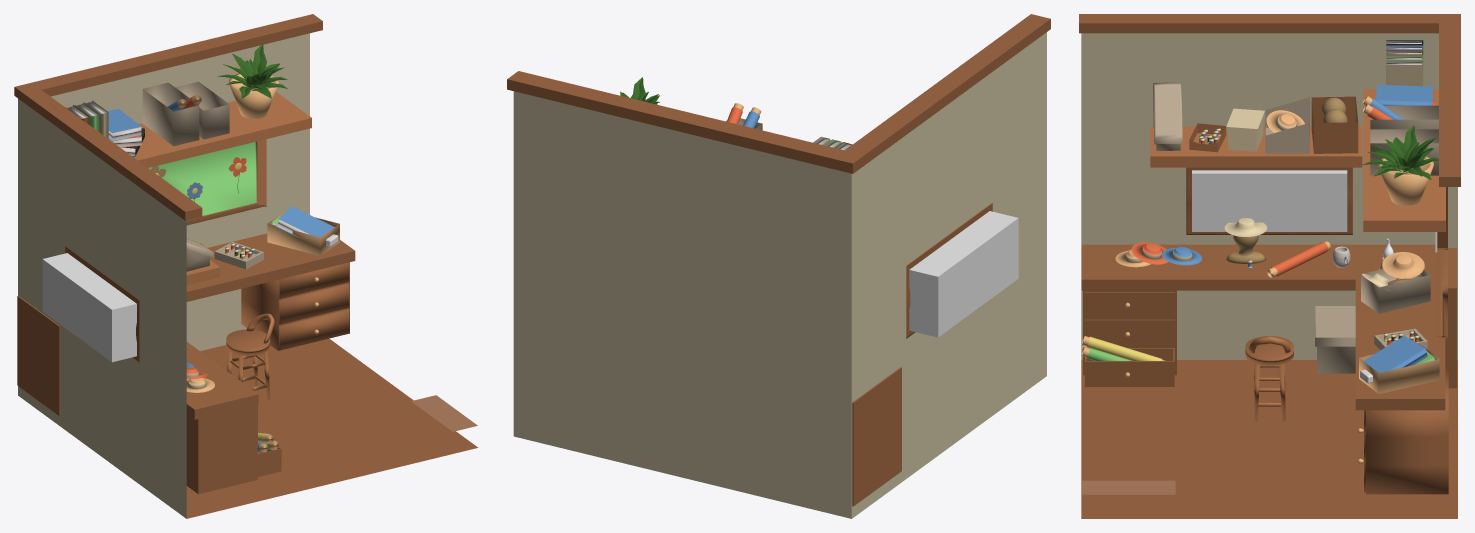
File: room.glb
3 views of the same model, side by side, from view 1: azimuth 30°, elevation 25°; view 2: azimuth 150°, elevation 25°; view 3: azimuth 270°, elevation 25° (orthographic). The views are drawn at different scales.
Parts seen in each view (by area): view 1: Room Base, Plane.041, Dolap, Cube.001, Kucuk_dolap, Pano, Raf_sag, Dolap_ustu, Dolap_sag2, Masa, Cube.017, Cube.018 (+9 smaller); view 2: Room Base, Plane.041, Cube.001, Dolap_sag2, Pencere; view 3: Room Base, Masa, Plane.041, Cube.001, Kucuk_dolap, Dolap, Dolap_ustu, Raf_sag.001, Raf_sag, Cube.019, Cube.022, Cube.035 (+24 smaller).
Boxes of the visible parts, <box> form: Room Base: <box>18,33,477,518</box>; Plane.041: <box>14,14,322,220</box>; Dolap: <box>241,262,349,350</box>; Cube.001: <box>42,253,136,362</box>; Kucuk_dolap: <box>186,404,281,494</box>; Pano: <box>148,139,266,225</box>; Raf_sag: <box>133,91,311,167</box>; Dolap_ustu: <box>186,233,355,301</box>; Dolap_sag2: <box>17,295,60,415</box>; Masa: <box>186,342,258,419</box>; Cube.017: <box>142,82,199,146</box>; Cube.018: <box>175,81,229,139</box>; Room Base: <box>513,32,1046,518</box>; Plane.041: <box>507,14,1050,173</box>; Cube.001: <box>909,211,1018,337</box>; Dolap_sag2: <box>852,367,901,506</box>; Pencere: <box>906,203,992,338</box>; Room Base: <box>1081,33,1457,518</box>; Masa: <box>1081,244,1437,290</box>; Plane.041: <box>1079,14,1460,186</box>; Cube.001: <box>1192,170,1347,231</box>; Kucuk_dolap: <box>1083,290,1176,386</box>; Dolap: <box>1357,369,1448,494</box>; Dolap_ustu: <box>1355,279,1445,410</box>; Raf_sag.001: <box>1150,126,1362,167</box>; Raf_sag: <box>1363,89,1445,231</box>; Cube.019: <box>1315,306,1355,373</box>; Cube.022: <box>1311,96,1358,153</box>; Cube.035: <box>1361,269,1430,313</box>.
Bounding box in the file's own units: 5.34 × 4.9 × 4.92.
